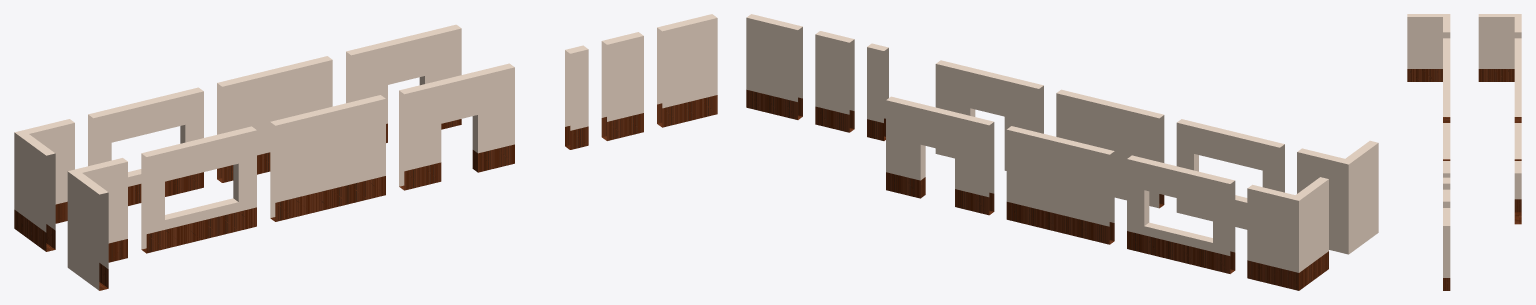
Rendered from ModularWalls.fbx.
The picture shows the model from 3 angles, left to right: view 1: azimuth 30°, elevation 25°; view 2: azimuth 150°, elevation 25°; view 3: azimuth 270°, elevation 25°; orthographic projection. The views are drawn at different scales.
Parts seen in each view (by area): view 1: ParedExterior, PuertaExterior, VentanaExterior, ParedInterior, EsquinaI_Exterior, EsquinaI_Interior, Saliente3, PuertaInterior, VentanaInterior, Saliente2, Saliente1; view 2: ParedInterior, PuertaInterior, VentanaInterior, EsquinaI_Interior, ParedExterior, EsquinaI_Exterior, Saliente3, PuertaExterior, VentanaExterior, Saliente2, Saliente1; view 3: EsquinaI_Interior, EsquinaI_Exterior, PuertaInterior, Saliente3, PuertaExterior, VentanaExterior, VentanaInterior, ParedExterior, ParedInterior, Saliente2, Saliente1.
Boxes of the visible parts, bbox=[...] form: ParedExterior: bbox=[270, 95, 385, 221]; PuertaExterior: bbox=[399, 63, 514, 190]; VentanaExterior: bbox=[141, 126, 256, 253]; ParedInterior: bbox=[217, 56, 332, 182]; EsquinaI_Exterior: bbox=[67, 158, 127, 290]; EsquinaI_Interior: bbox=[14, 119, 74, 251]; Saliente3: bbox=[657, 14, 717, 127]; PuertaInterior: bbox=[346, 24, 461, 142]; VentanaInterior: bbox=[88, 87, 203, 205]; Saliente2: bbox=[601, 32, 643, 140]; Saliente1: bbox=[565, 45, 588, 149]; ParedInterior: bbox=[1006, 126, 1114, 244]; PuertaInterior: bbox=[886, 96, 994, 215]; VentanaInterior: bbox=[1127, 155, 1235, 273]; EsquinaI_Interior: bbox=[1247, 177, 1328, 290]; ParedExterior: bbox=[1056, 89, 1164, 208]; EsquinaI_Exterior: bbox=[1297, 140, 1378, 254]; Saliente3: bbox=[746, 14, 802, 119]; PuertaExterior: bbox=[935, 60, 1043, 170]; VentanaExterior: bbox=[1176, 119, 1284, 229]; Saliente2: bbox=[815, 31, 854, 132]; Saliente1: bbox=[867, 43, 888, 140]; EsquinaI_Interior: bbox=[1478, 14, 1521, 81]; EsquinaI_Exterior: bbox=[1407, 14, 1450, 81]; PuertaInterior: bbox=[1514, 123, 1521, 224]; Saliente3: bbox=[1443, 208, 1450, 290]; PuertaExterior: bbox=[1443, 123, 1450, 177]; VentanaExterior: bbox=[1443, 38, 1450, 122]; VentanaInterior: bbox=[1514, 38, 1521, 122]; ParedExterior: bbox=[1443, 80, 1450, 160]; ParedInterior: bbox=[1514, 80, 1521, 160]; Saliente2: bbox=[1443, 189, 1450, 207]; Saliente1: bbox=[1443, 177, 1450, 189].
Bounding box in the file's own units: 3501 × 500 × 800.
Materials: 2 (1 with a texture image).
